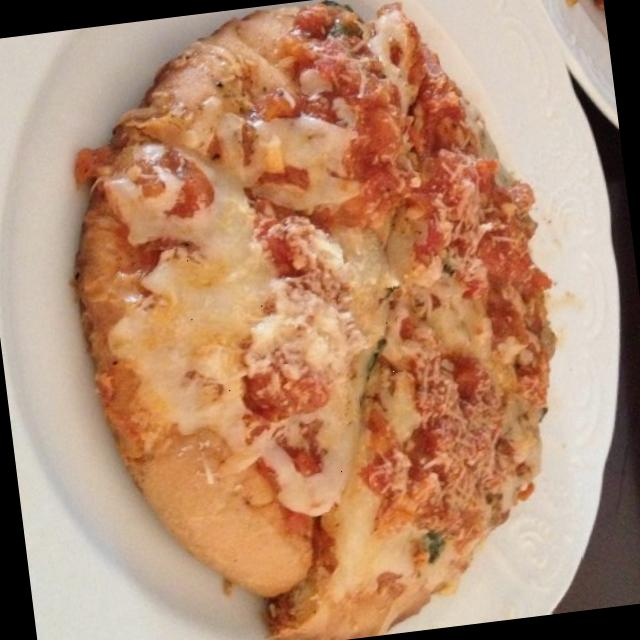cheese: (113, 191, 283, 439), (262, 386, 372, 517), (328, 234, 402, 378), (270, 108, 354, 172)
pizza: (79, 0, 555, 640)
